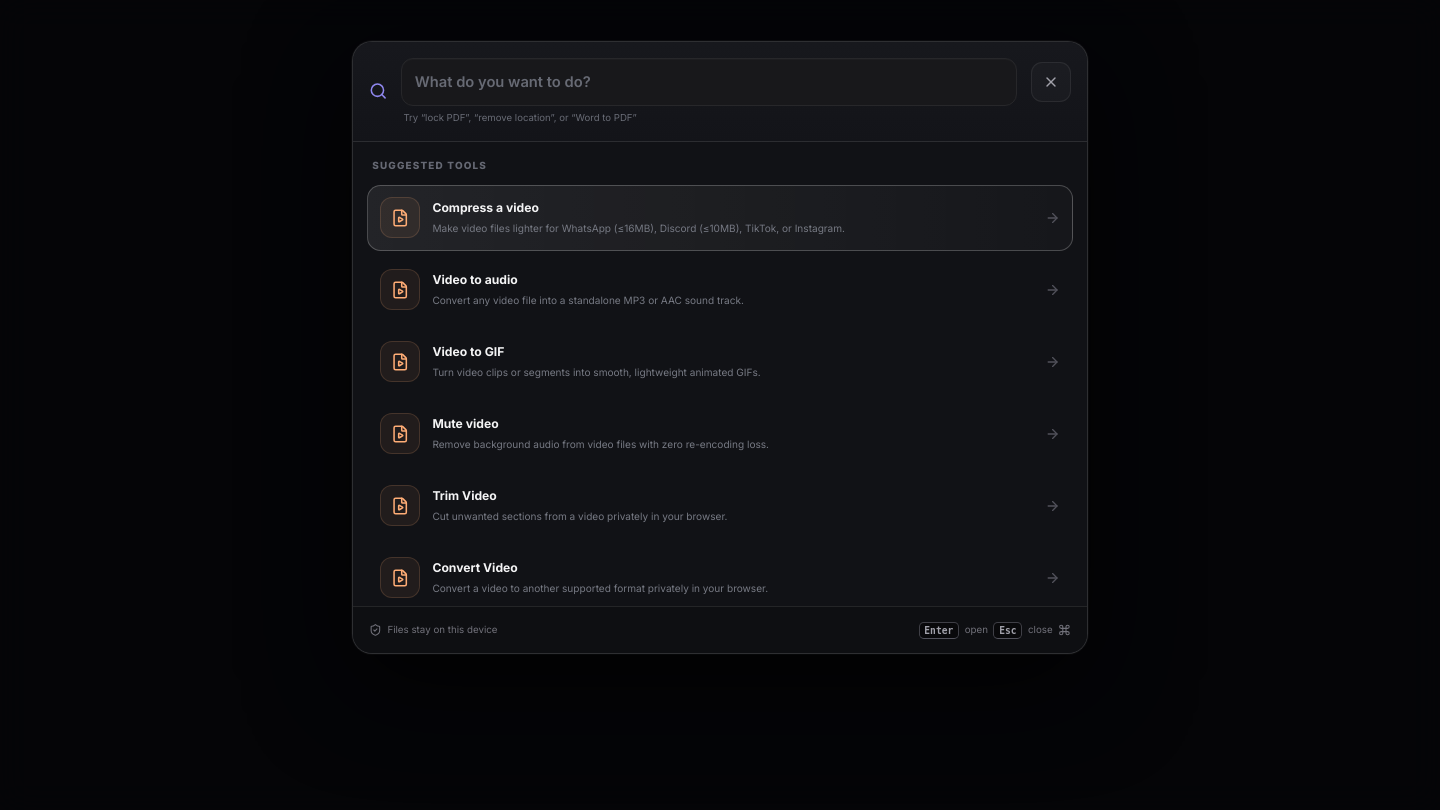
CommandPalette › finds tools using plain-language aliases
Type "make pdf uneditable" into the search field named "Search tools and actions" at [709, 82], box top-left (401, 58), bottom-right (1017, 106)
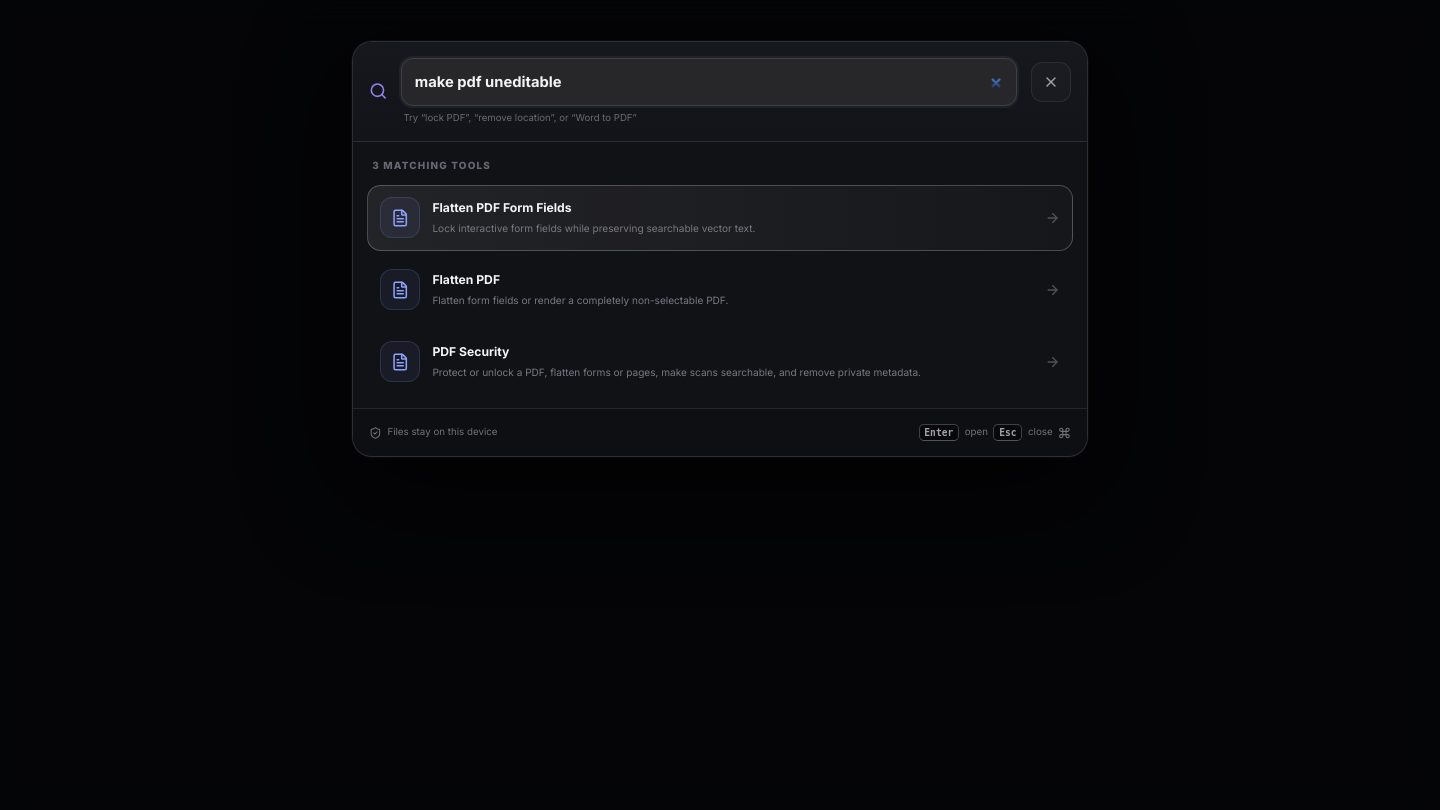
Check: the button "PDF Security" is shown, box top-left (367, 328), bottom-right (1073, 395)
